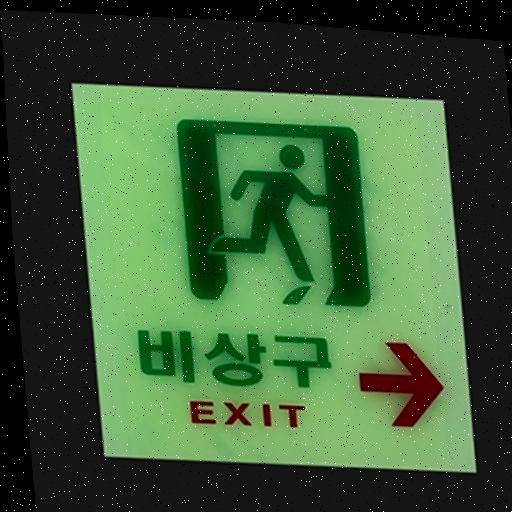emergency_exit: (70, 80, 478, 474)
